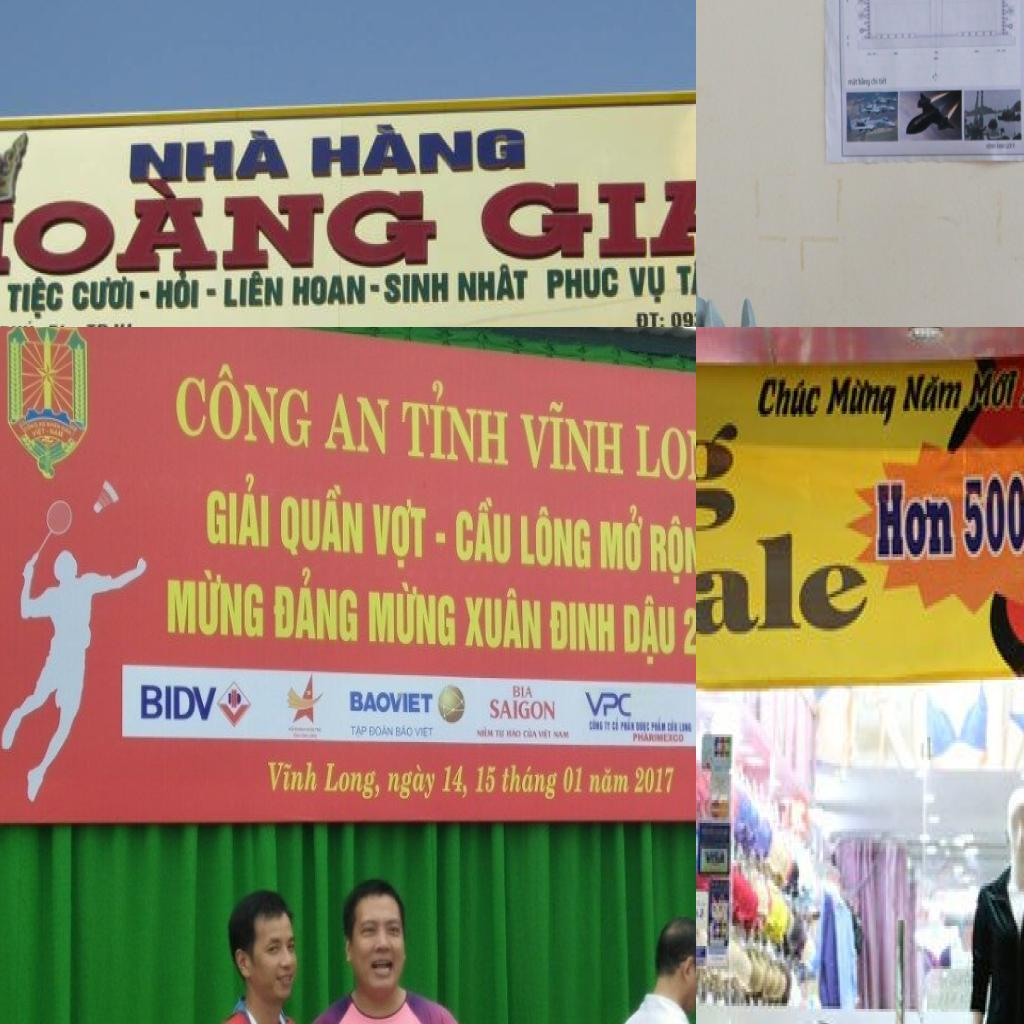text: (0, 182, 443, 279), (696, 531, 872, 651), (475, 172, 696, 262), (305, 116, 528, 179), (174, 358, 314, 453), (400, 374, 512, 470), (128, 126, 291, 184), (514, 395, 626, 479), (165, 567, 266, 641), (867, 480, 958, 562), (278, 479, 366, 563), (271, 564, 360, 646), (366, 577, 458, 650), (696, 397, 741, 540), (370, 495, 448, 574), (959, 468, 1024, 562), (462, 585, 544, 654), (206, 469, 272, 551), (519, 502, 594, 572), (322, 391, 393, 459), (454, 490, 513, 567), (622, 591, 678, 667), (548, 598, 618, 656), (635, 423, 696, 488), (823, 374, 896, 428), (648, 511, 696, 591), (598, 500, 646, 574), (139, 682, 220, 724), (755, 374, 823, 422), (456, 261, 529, 304), (902, 365, 966, 414), (543, 264, 621, 304), (498, 762, 562, 805), (7, 274, 64, 322), (292, 273, 368, 309), (323, 760, 382, 804), (383, 271, 451, 309), (71, 275, 137, 314), (222, 270, 286, 310), (968, 365, 1019, 414), (348, 690, 436, 716), (385, 762, 440, 803), (625, 263, 670, 305), (267, 760, 322, 794), (156, 271, 202, 311), (488, 698, 557, 722), (583, 689, 634, 721), (588, 765, 633, 796), (439, 762, 470, 802), (672, 256, 696, 304), (560, 765, 586, 796), (474, 763, 499, 795), (682, 607, 696, 661), (633, 307, 667, 327), (670, 307, 696, 327), (368, 722, 395, 739), (511, 684, 536, 700), (656, 732, 686, 745), (474, 725, 495, 741), (413, 725, 435, 739), (0, 319, 37, 327), (620, 716, 636, 734), (395, 724, 414, 739), (350, 724, 368, 739), (631, 732, 651, 745), (522, 726, 540, 740), (587, 720, 605, 734), (553, 729, 572, 742), (506, 729, 522, 741), (537, 728, 553, 740), (612, 715, 620, 735), (83, 321, 109, 327), (494, 728, 506, 740), (858, 77, 871, 88), (603, 720, 613, 734), (46, 322, 69, 327), (848, 78, 858, 87), (986, 142, 996, 150), (871, 76, 878, 86), (879, 77, 887, 85), (997, 143, 1005, 150), (1006, 142, 1012, 150)
